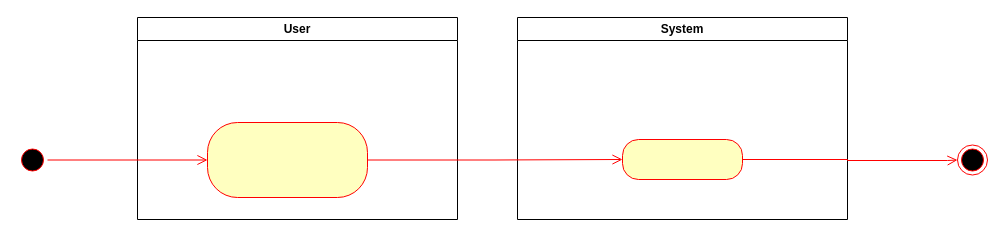
The diagram is 1005 pixels wide and 237 high, and some of its shapes have lost their labels. The centre of each missing label's shape, as x and y in pixels:
(1) On "left menu" click " Delivery Management – CRUD delivery unit”: [287,160]
(2) Load " List delivery unit ": [682,159]
